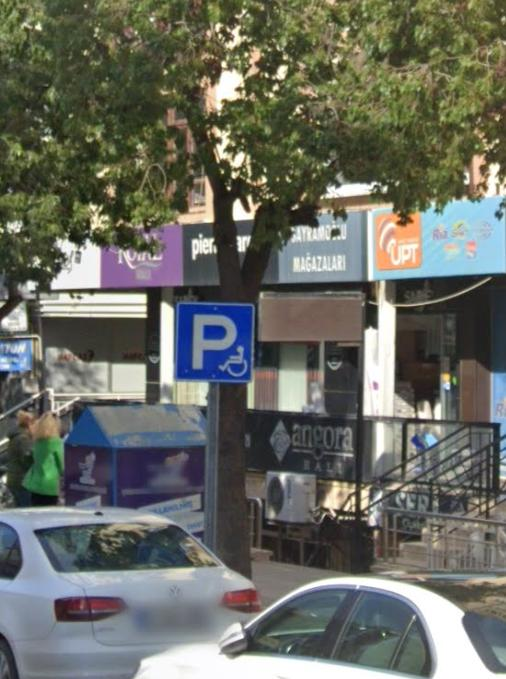disabledpark: (176, 304, 253, 381)
